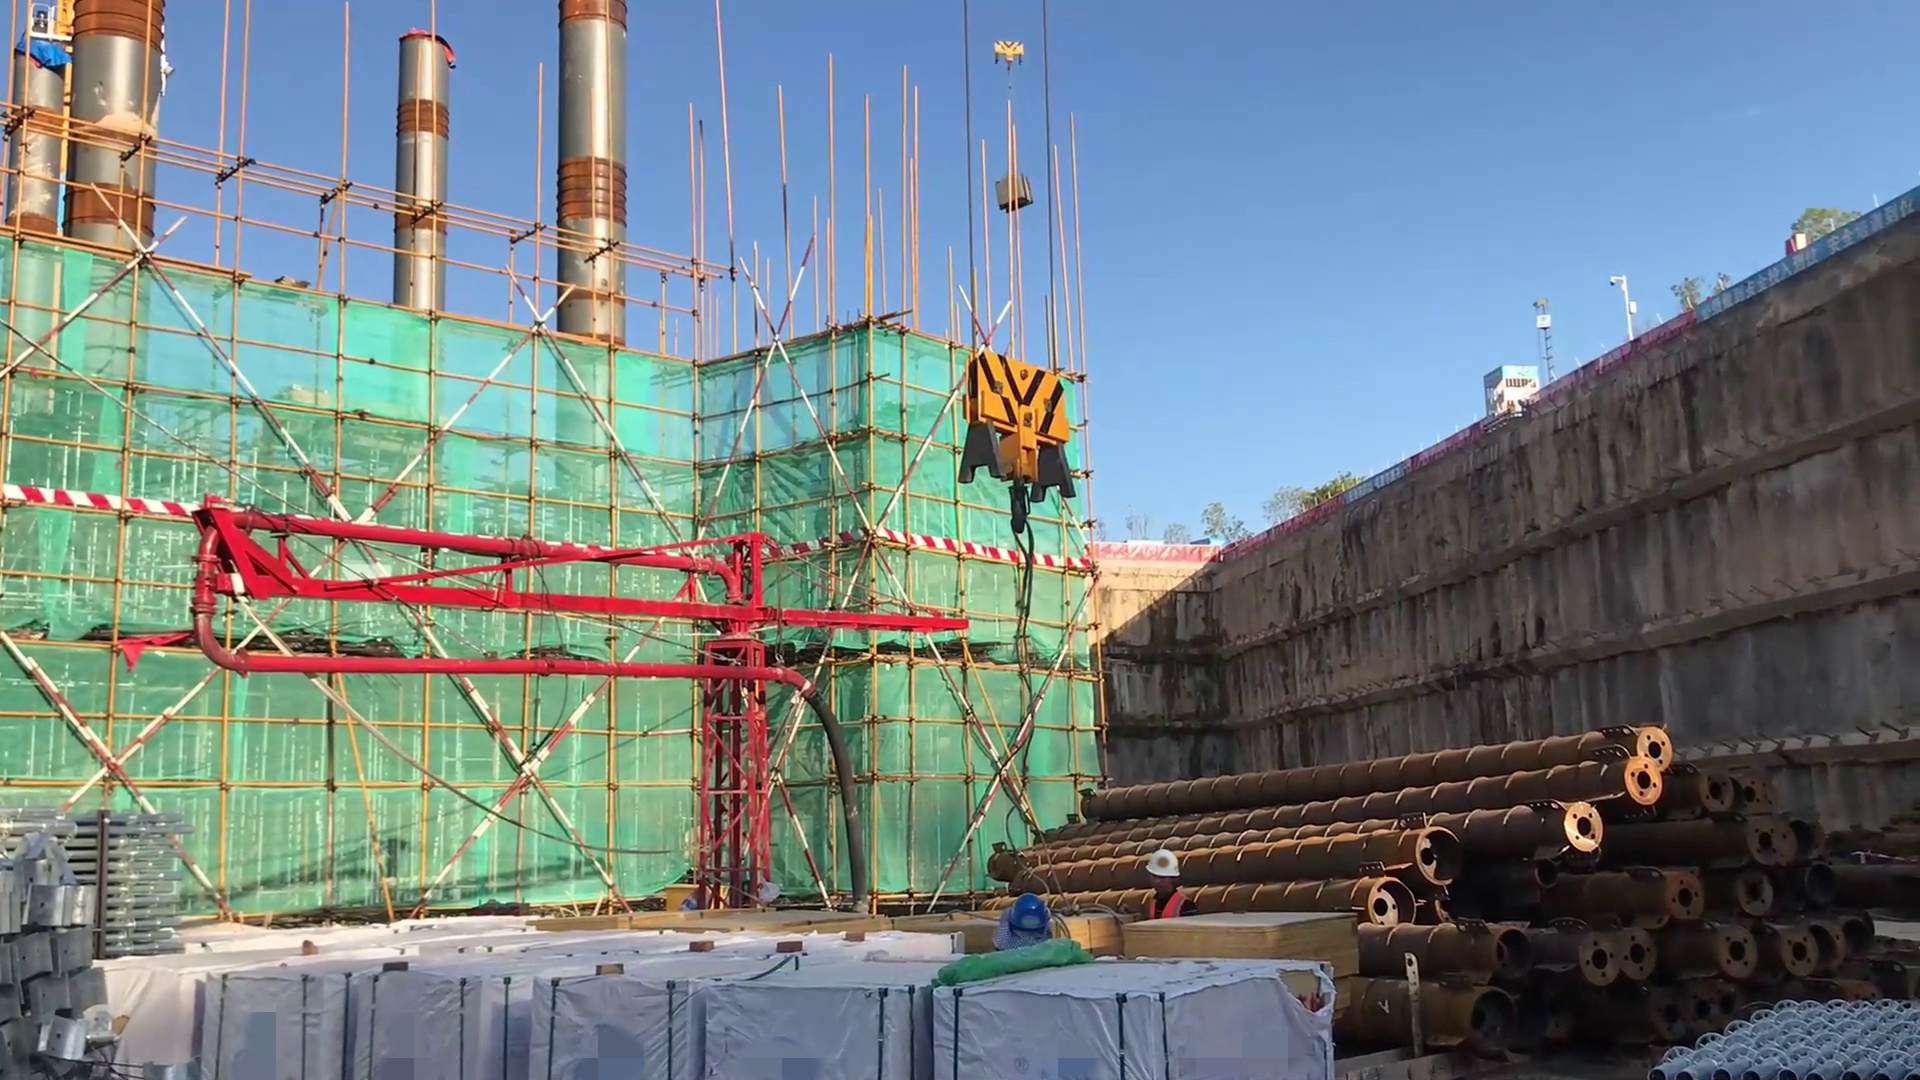board: (1112, 905, 1375, 987)
ebox: (665, 883, 729, 910)
helmet: (1001, 887, 1059, 954), (1126, 851, 1191, 886)
hook: (952, 344, 1080, 501), (988, 37, 1038, 80)
person: (1104, 841, 1201, 949)
scaffold: (56, 798, 204, 962)
slogan: (1680, 179, 1920, 334), (1334, 449, 1425, 514)
vest: (1140, 883, 1198, 945)
wood: (531, 910, 894, 939)
